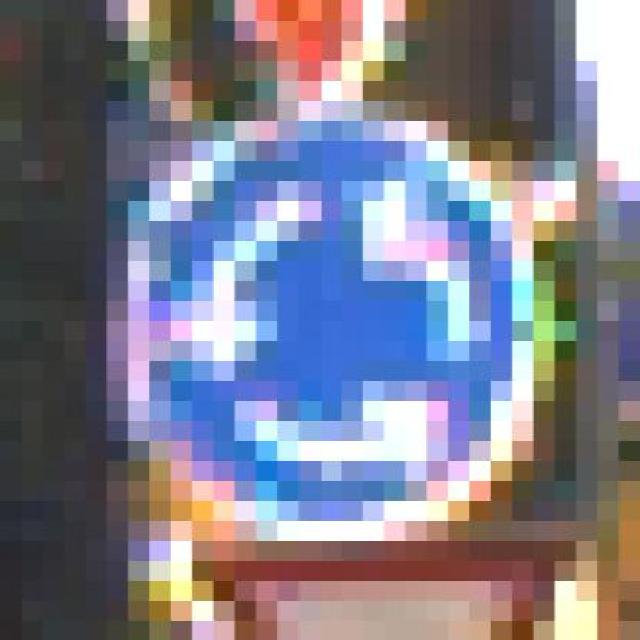Round-About: (64, 80, 619, 580)
